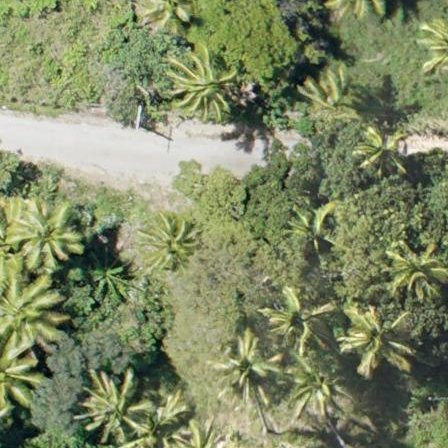palm_tree: (6, 195, 85, 278), (73, 370, 150, 448), (172, 43, 240, 115), (339, 306, 410, 373), (206, 333, 281, 396), (136, 204, 201, 273), (1, 264, 54, 346), (260, 289, 329, 349), (384, 243, 448, 305), (356, 128, 407, 176)
